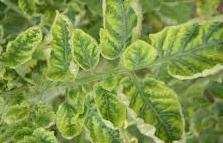Tomato leaf yellow virus: (119, 68, 194, 143), (165, 1, 223, 81), (92, 0, 143, 59), (46, 4, 83, 79), (4, 26, 40, 72), (95, 86, 130, 131), (55, 90, 87, 139), (71, 30, 100, 72), (10, 120, 53, 143), (19, 0, 38, 20)
